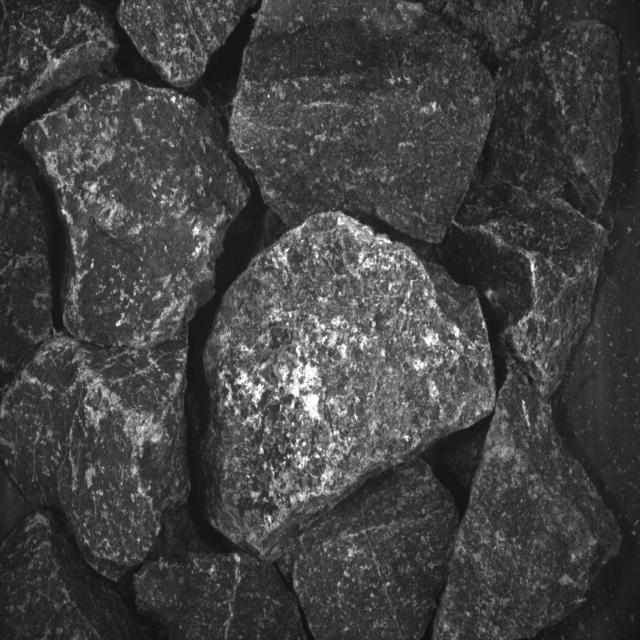Stones: (202, 213, 496, 561), (442, 22, 622, 398), (231, 1, 496, 245), (25, 80, 250, 349), (435, 371, 621, 640), (1, 336, 191, 580), (295, 461, 459, 640), (1, 512, 137, 640), (1, 1, 119, 128), (135, 553, 306, 640), (119, 1, 256, 88), (1, 153, 54, 373)
